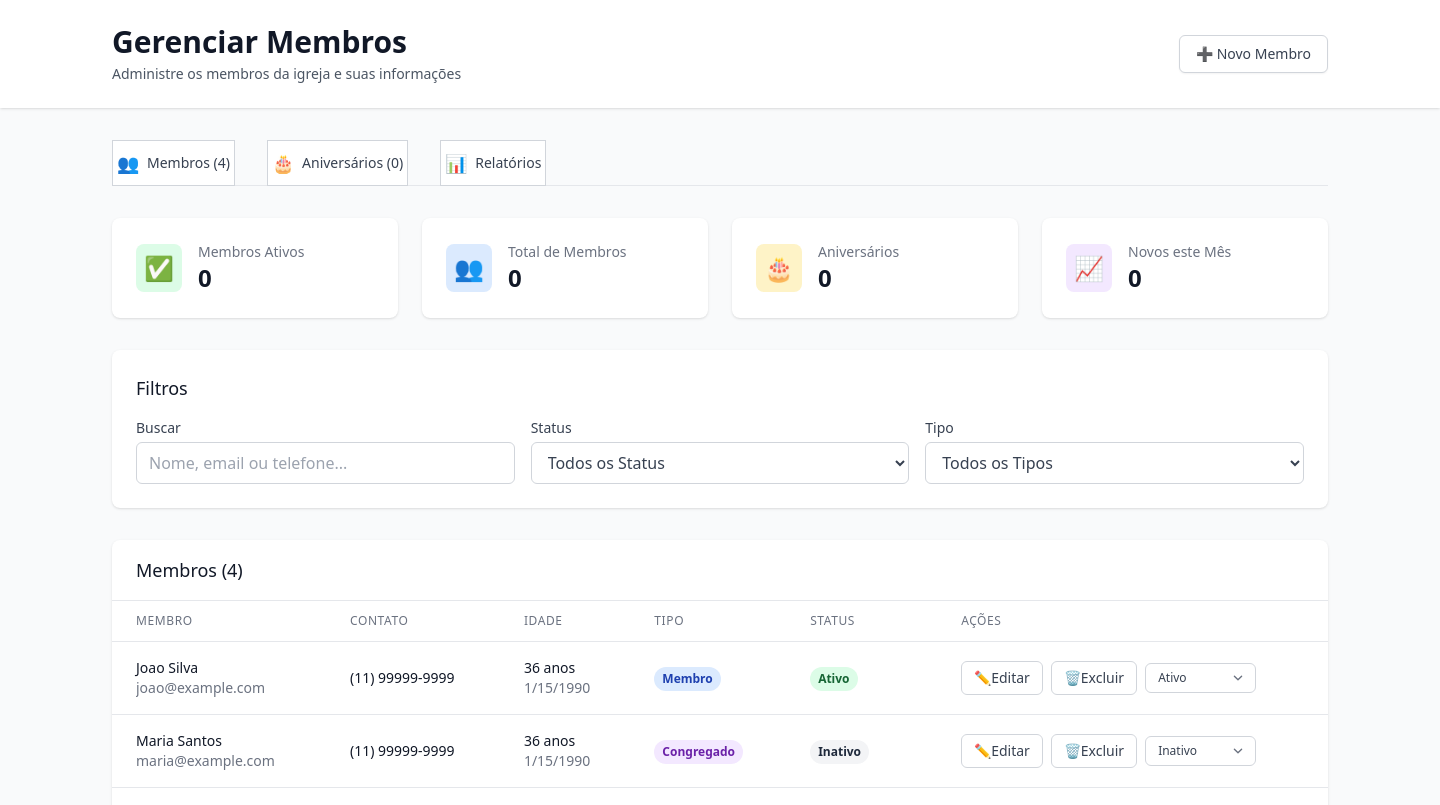
Test: MembersManagementPage › Filtering › should filter members by search term (name)
Expected: the text "Joao Silva" is shown, [136,658,198,677]
Type "Joao" into the field with placeholder "Nome, email ou telefone..." at {"x": 325, "y": 463}, box [136,442,515,484]
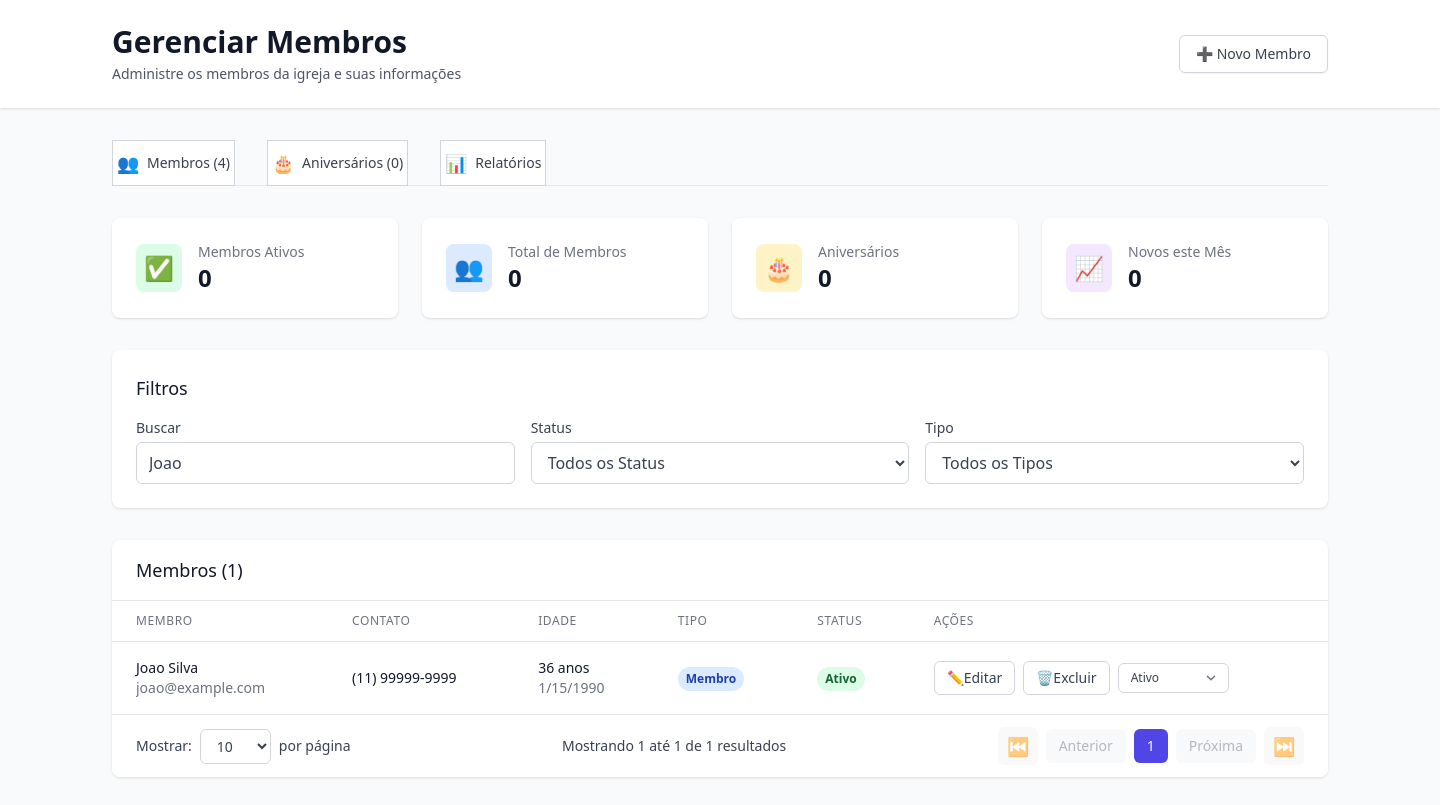
Expected: the text "Joao Silva" is shown, [136,658,198,677]
Result: the text "Maria Santos" is gone
